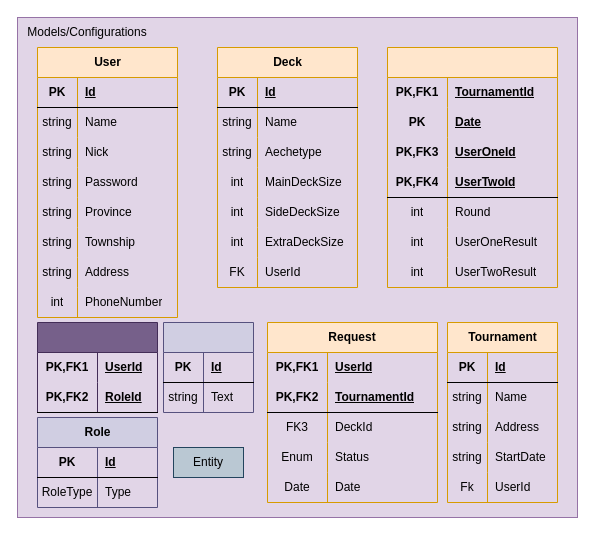
Image size: 595x535. Some labels were removed from this diagram. The box of each missing label's shape, as (x1, y1, x2, y2) in pixels:
Code: (162, 322, 254, 412)
Match: (386, 46, 558, 288)
UserRole: (36, 322, 158, 412)
